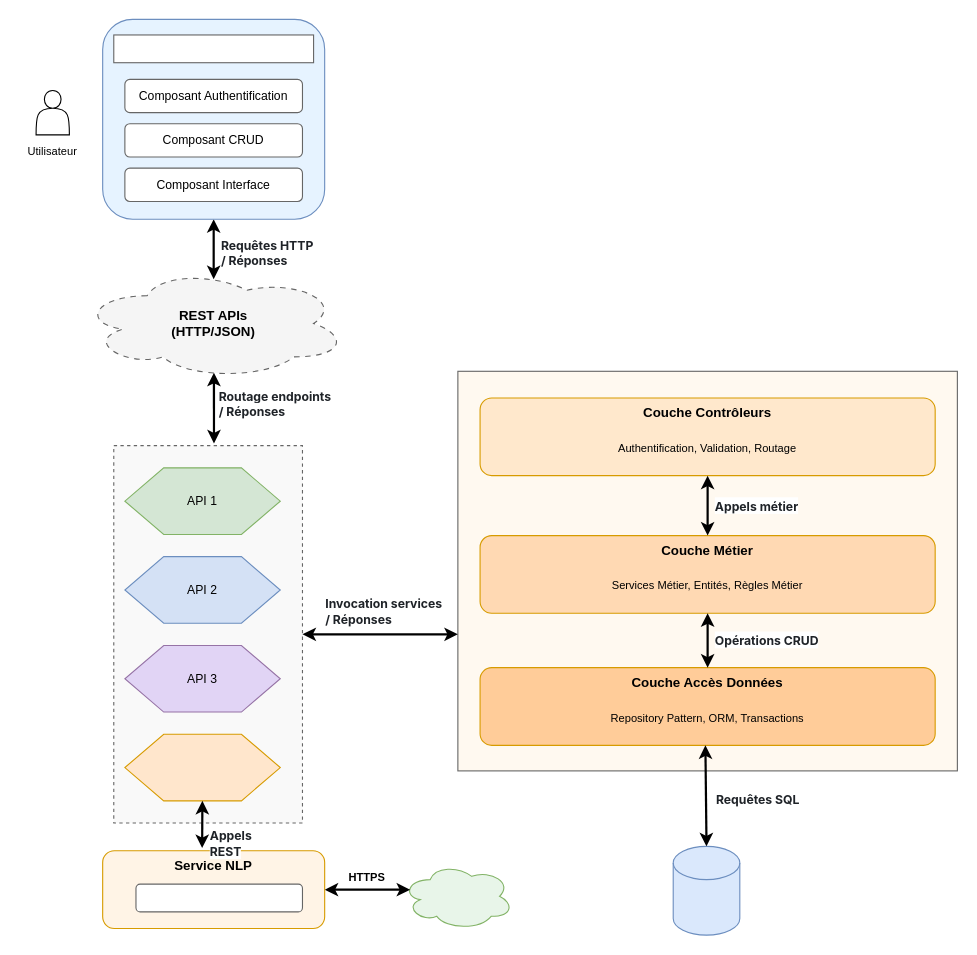
Some shapes in this 977 by 955 pixel diagram are drawn without their labels. Here are the shapes that lost their labels. From the top down, the centre of each, then its label:
At point (213, 48): "prevention-plus".
At point (202, 767): "API Analyse NLP".
At point (218, 897): "Analyseur Texte".
At point (457, 896): "API Gemini".
At point (706, 890): "Base de données".
